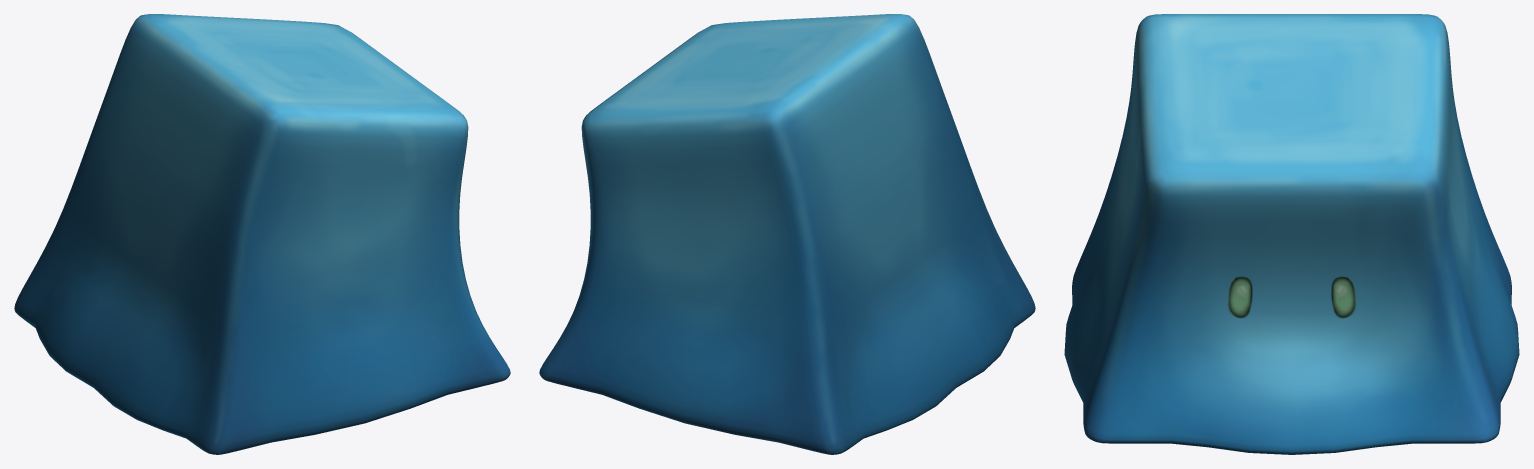
Rendered from Smile C 02.fbx.
3 views of the same model, side by side, from view 1: azimuth 30°, elevation 25°; view 2: azimuth 150°, elevation 25°; view 3: azimuth 270°, elevation 25° (orthographic). The views are drawn at different scales.
Visible parts, largest first — view 1: Cube.002; view 2: Cube.002; view 3: Cube.002.
Part boxes in pixels (x1,y1,x2,y2): Cube.002: (14,14,510,454); Cube.002: (539,14,1035,454); Cube.002: (1064,14,1519,454).
Size of the model in its own units: 474 by 383 by 491.
